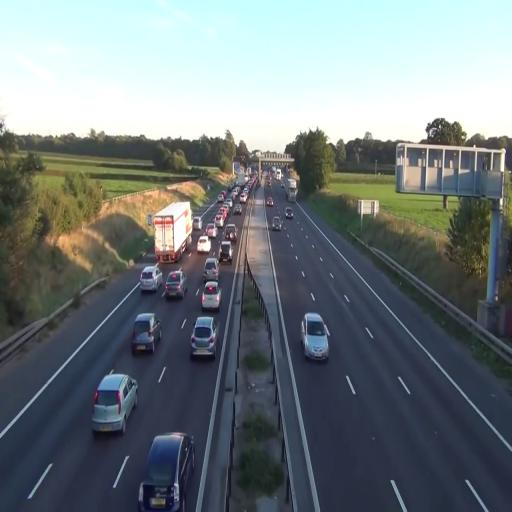vehicle: (138, 432, 196, 512), (92, 372, 139, 436), (152, 200, 192, 264), (301, 313, 330, 363), (131, 314, 161, 354), (190, 316, 218, 358), (164, 270, 186, 300), (200, 281, 221, 312), (140, 266, 160, 294), (202, 256, 219, 284), (218, 241, 232, 264), (198, 235, 210, 254), (272, 214, 282, 231), (284, 206, 293, 218)
